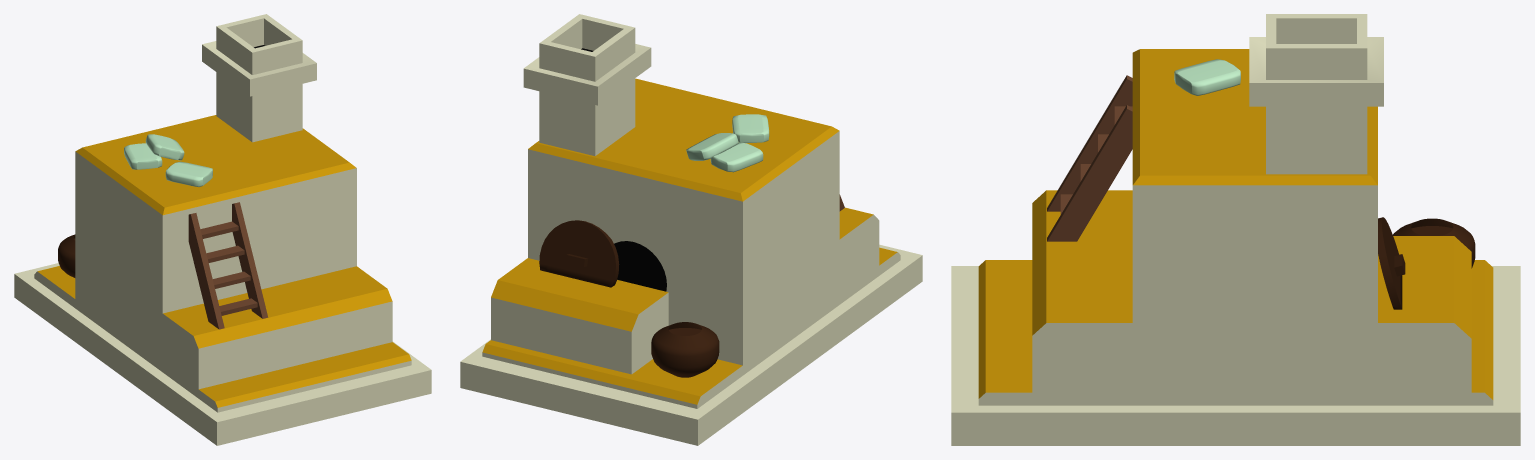
The model's file is Emelya`s car.fbx.
3 views of the same model, side by side, from view 1: azimuth 30°, elevation 25°; view 2: azimuth 150°, elevation 25°; view 3: azimuth 270°, elevation 25° (orthographic). The views are drawn at different scales.
Parts seen in each view (by area): view 1: body, ladder, pillows, bowl; view 2: body, lid, bowl, pillows; view 3: body, ladder, pillows, lid, bowl.
Boxes of the visible parts, left/top/right/bottom form: body: left=14, top=14, right=431, bottom=445; ladder: left=188, top=202, right=268, bottom=329; pillows: left=124, top=134, right=212, bottom=186; bowl: left=58, top=234, right=75, bottom=277; body: left=460, top=14, right=922, bottom=445; lid: left=539, top=220, right=619, bottom=287; bowl: left=651, top=322, right=719, bottom=377; pillows: left=686, top=114, right=769, bottom=172; body: left=951, top=14, right=1520, bottom=445; ladder: left=1047, top=75, right=1132, bottom=241; pillows: left=1174, top=59, right=1240, bottom=95; lid: left=1378, top=217, right=1405, bottom=309; bowl: left=1393, top=218, right=1475, bottom=268.
Bounding box in the file's own units: 240 × 294 × 392.
